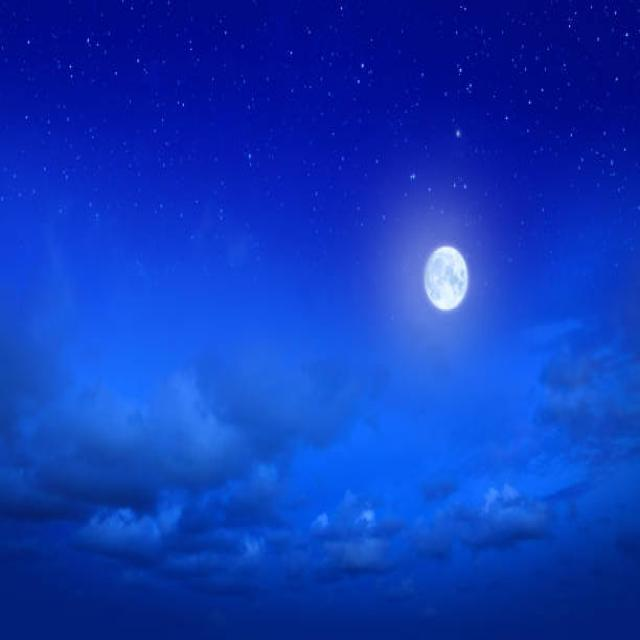moon: (418, 241, 470, 317)
